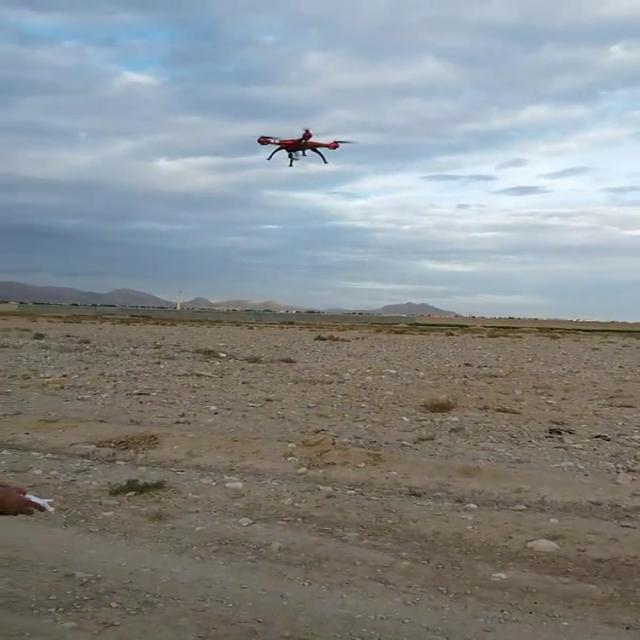drone: (245, 122, 367, 169)
